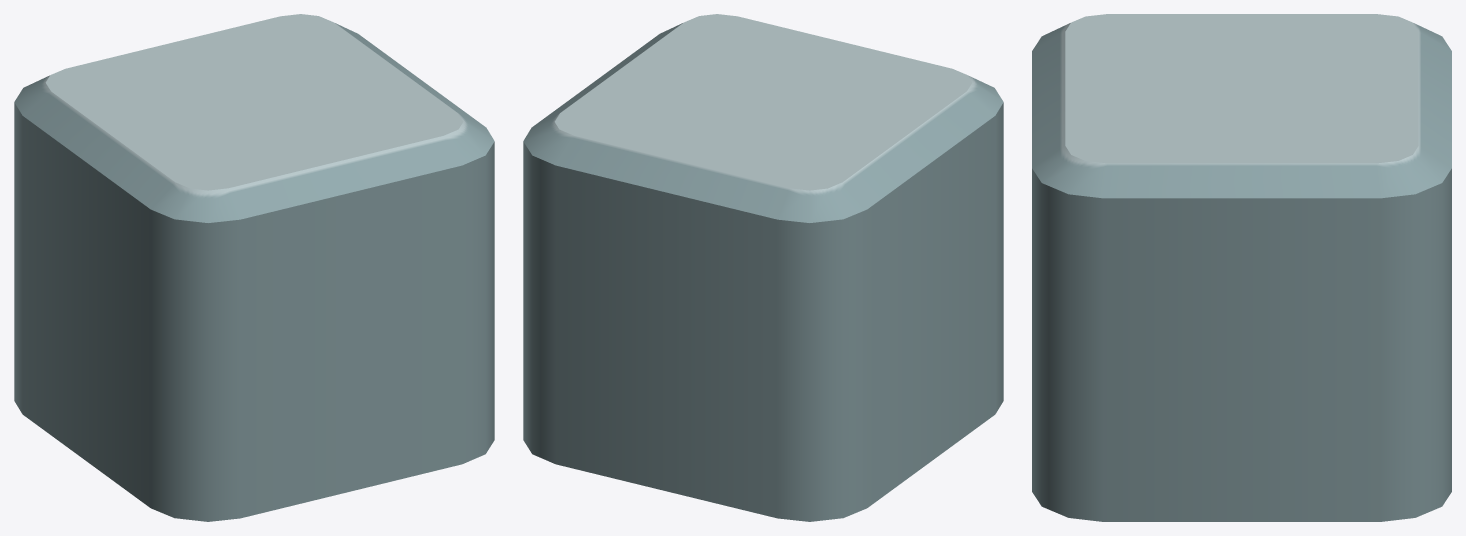
Rendered from cube_Old.fbx.
3 renders of one model, left to right at view 1: azimuth 30°, elevation 25°; view 2: azimuth 150°, elevation 25°; view 3: azimuth 270°, elevation 25°, orthographic. The views are drawn at different scales.
Parts seen in each view (by area): view 1: cube_BlueDark; view 2: cube_BlueDark; view 3: cube_BlueDark.
Part boxes in pixels (x1,y1,x2,y2): cube_BlueDark: (14,14,494,521); cube_BlueDark: (523,14,1003,521); cube_BlueDark: (1032,14,1451,521).
Bounding box in the file's own units: 100 × 90.58 × 100.
